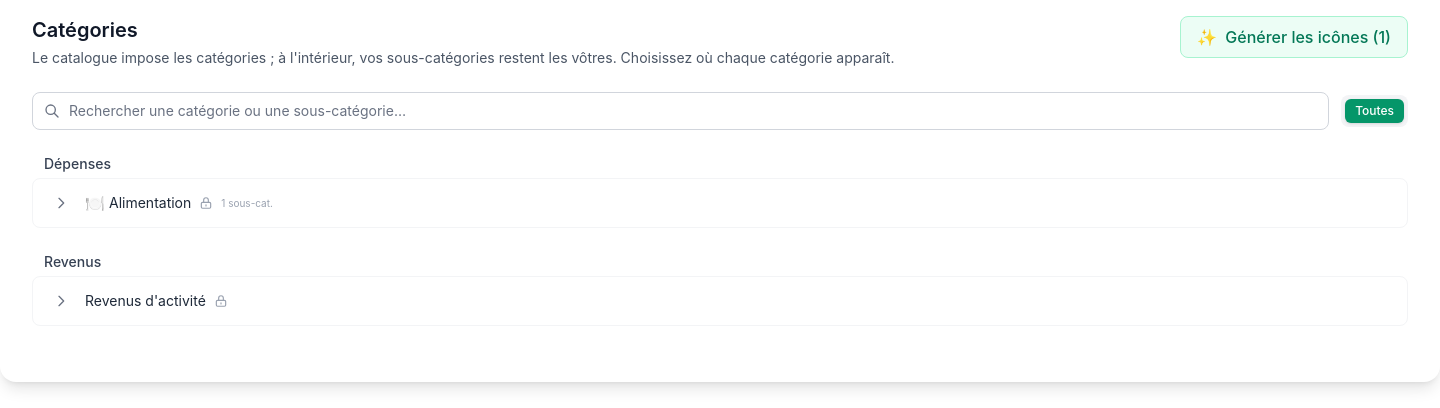
Scenario: CategoriesSettingsPage › filters the list by search term, reaching subcategory names
Step 1. Type "revenus" into the field with placeholder "Rechercher une catégorie ou une sous-catégorie…" → (681, 111), box [32,92,1329,130]
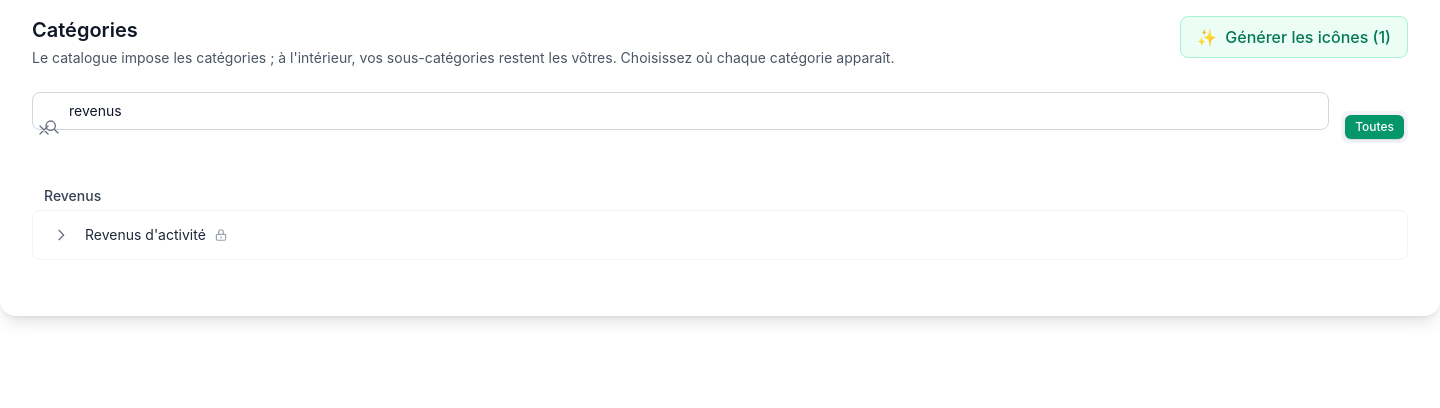
Expected: the number of list items with test id "category-row" is 1, [45,219,228,251]
"supermarche" is a subcategory of Alimentation, not a category name.
Step 2. Replace the text in the field with "supermarche" → (681, 111), box [32,92,1329,130]
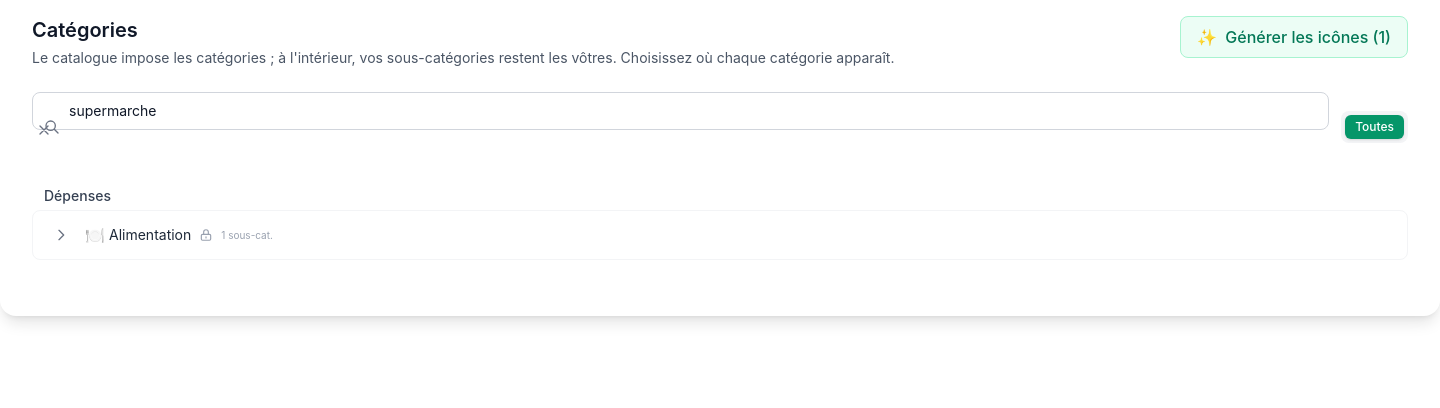
Expected: the number of list items with test id "category-row" is 1, [45,219,273,251]
Expected: the list item with test id "category-row" shows "Alimentation", [109,226,191,243]
